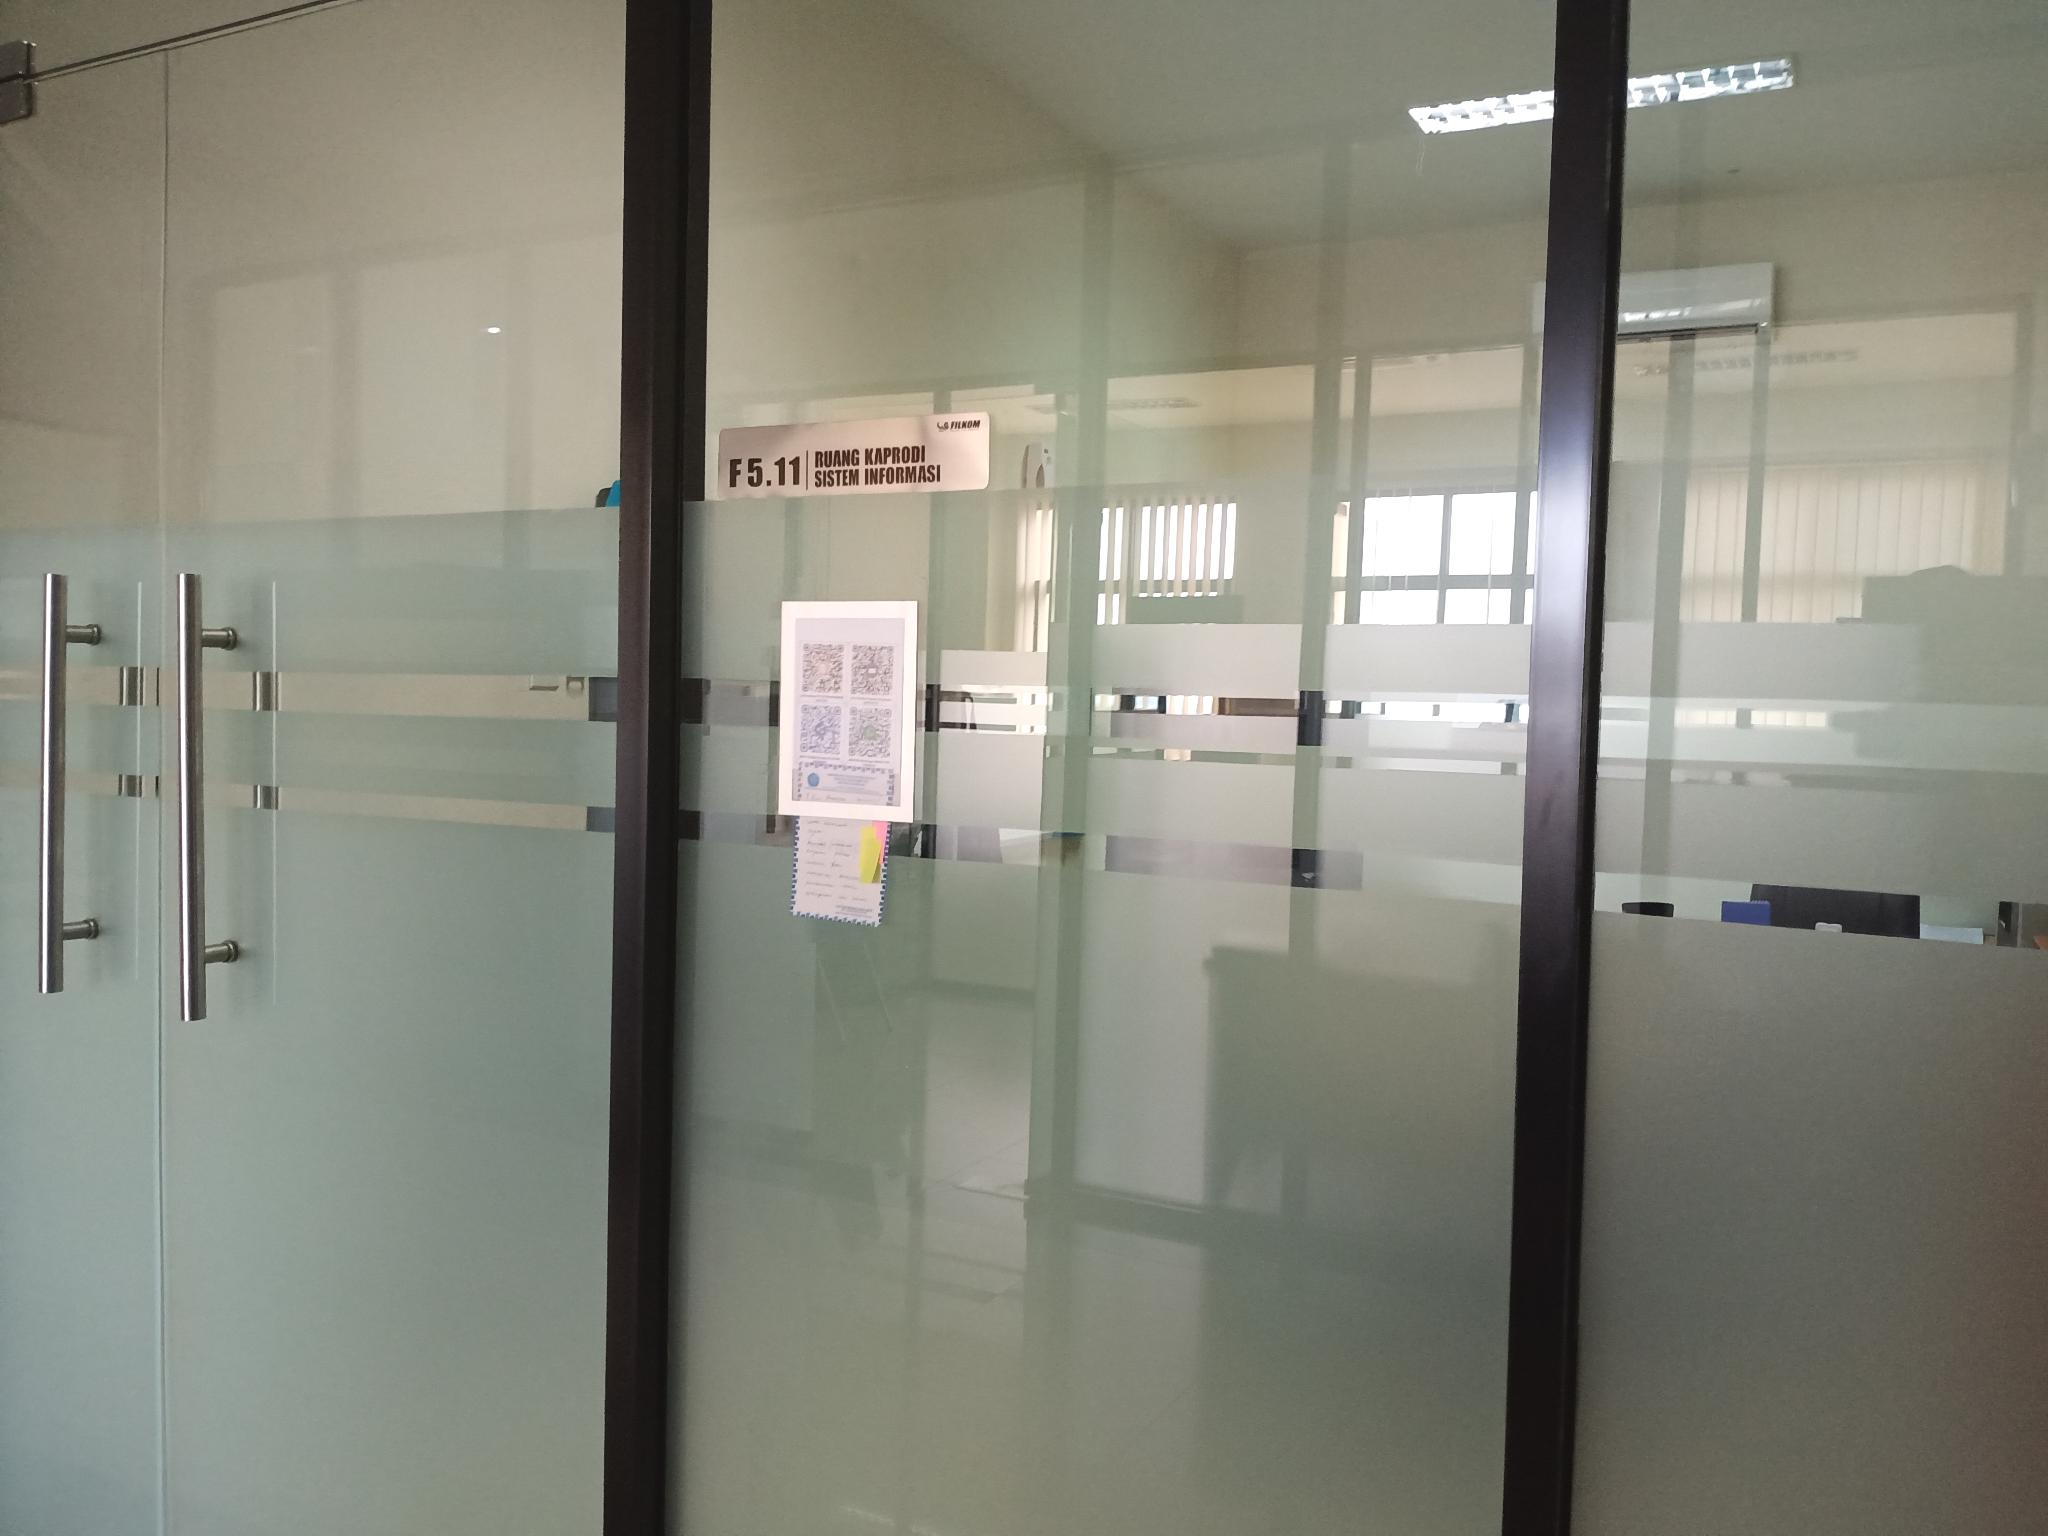plate: (716, 411, 990, 500)
